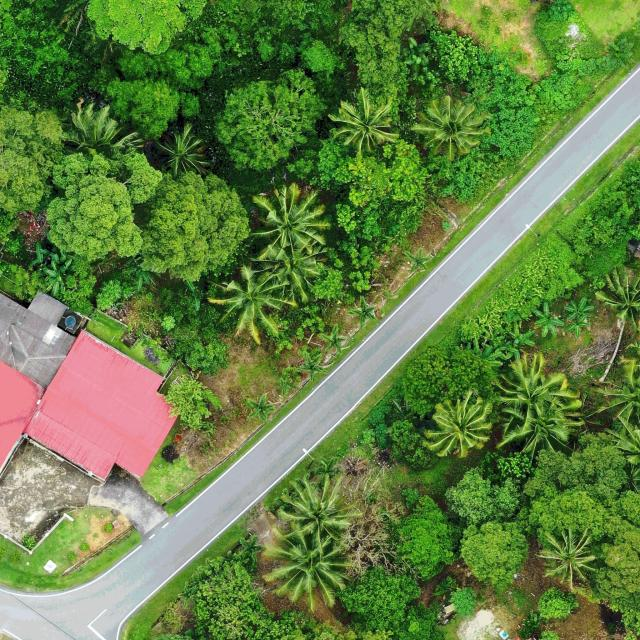Tree: (138, 170, 251, 285), (44, 151, 165, 256), (212, 68, 326, 173), (486, 352, 584, 460), (261, 524, 354, 614), (335, 0, 426, 84), (318, 138, 428, 206), (398, 345, 492, 419), (192, 556, 274, 640), (0, 109, 66, 213), (524, 442, 628, 505), (206, 266, 287, 346), (588, 490, 640, 613), (444, 452, 531, 523), (250, 183, 329, 261), (83, 0, 188, 55), (111, 40, 221, 90), (399, 494, 462, 581), (324, 88, 400, 159), (343, 564, 421, 633), (278, 475, 357, 541), (412, 94, 487, 163), (460, 518, 531, 588), (423, 392, 495, 460), (105, 74, 179, 140), (518, 484, 603, 540), (62, 103, 145, 157), (536, 524, 600, 587), (254, 248, 326, 304), (428, 25, 486, 88), (164, 373, 222, 431), (152, 121, 209, 179), (593, 358, 640, 422), (594, 269, 640, 334), (536, 586, 578, 620), (121, 262, 162, 292), (44, 256, 73, 298), (346, 294, 376, 329), (487, 329, 520, 360), (534, 302, 564, 336), (565, 299, 593, 335), (318, 322, 346, 354), (246, 394, 275, 424), (472, 339, 502, 366), (176, 578, 201, 610), (299, 351, 325, 381), (405, 245, 431, 274), (29, 242, 56, 269), (508, 322, 536, 348), (238, 534, 264, 558), (275, 376, 298, 396)
